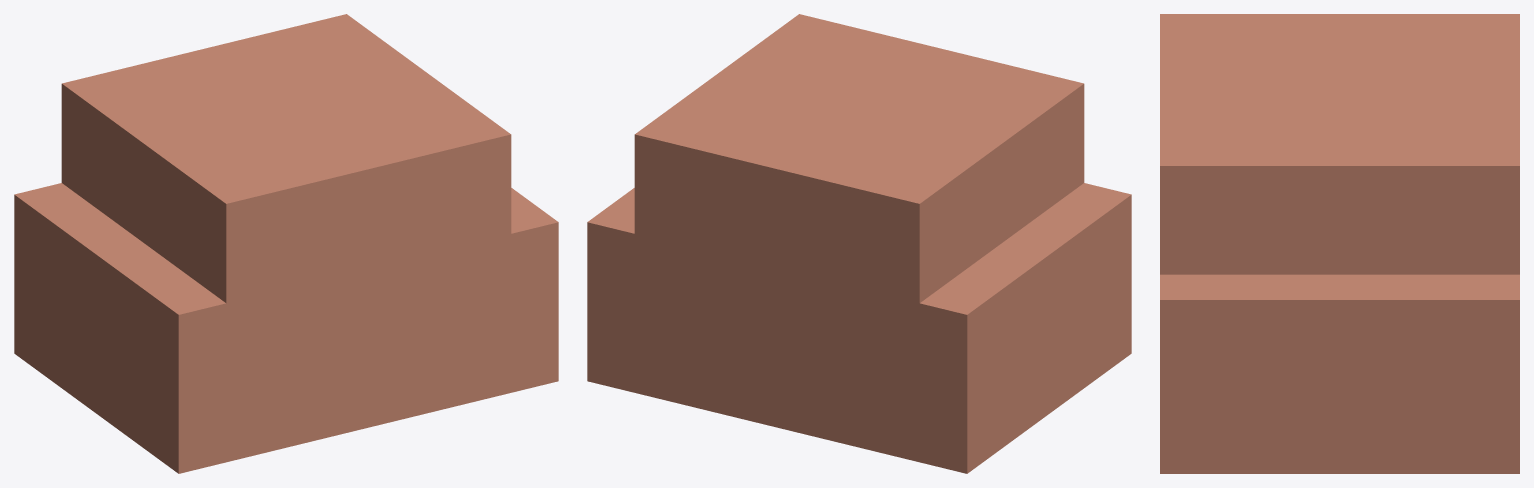
Rendered from barn.glb.
The picture shows the model from 3 angles, left to right: view 1: azimuth 30°, elevation 25°; view 2: azimuth 150°, elevation 25°; view 3: azimuth 270°, elevation 25°; orthographic projection. The views are drawn at different scales.
Size of the model in its own units: 8 by 5.2 by 6.
